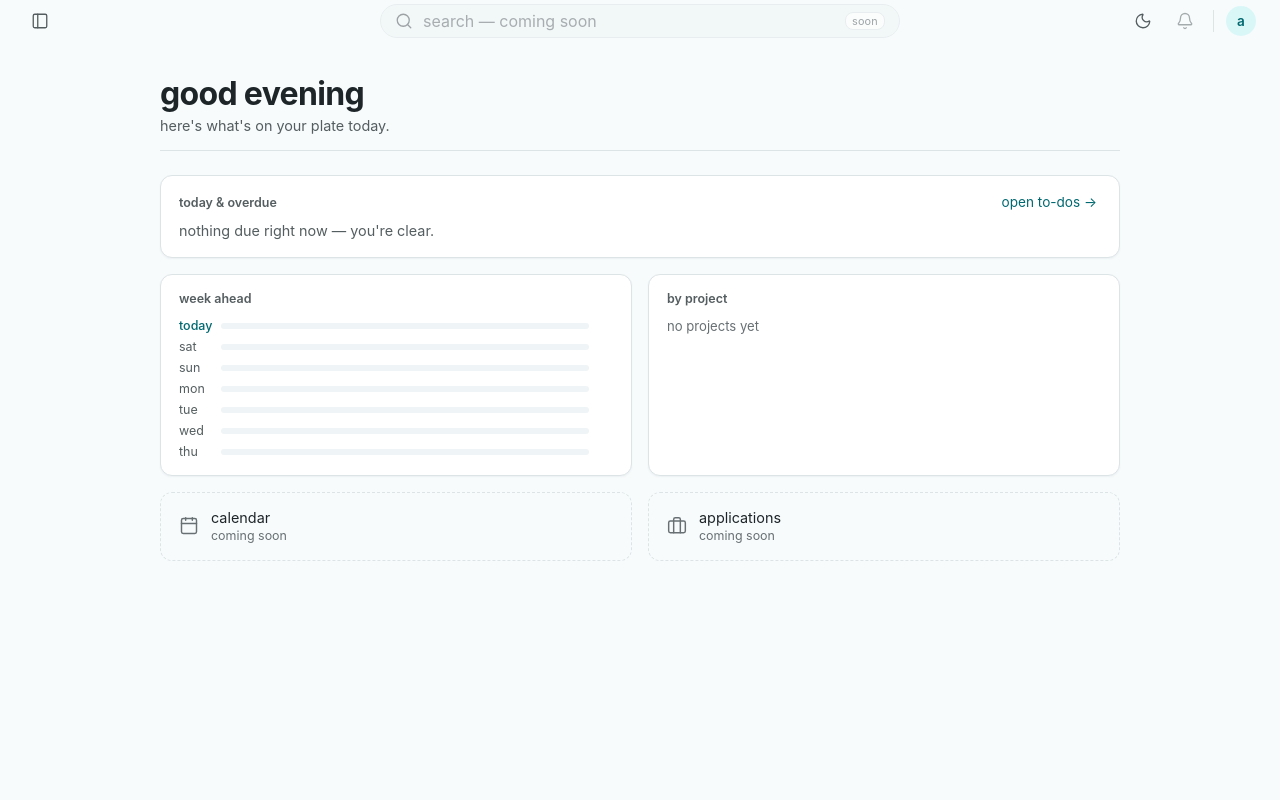
Test case: TodoDashboard › offers the dashed create tile instead of a fixed quick-add row
The image size is (1280, 800).
Click the button named "toggle sidebar" at (40, 21), box left=24, top=5, right=56, bottom=37
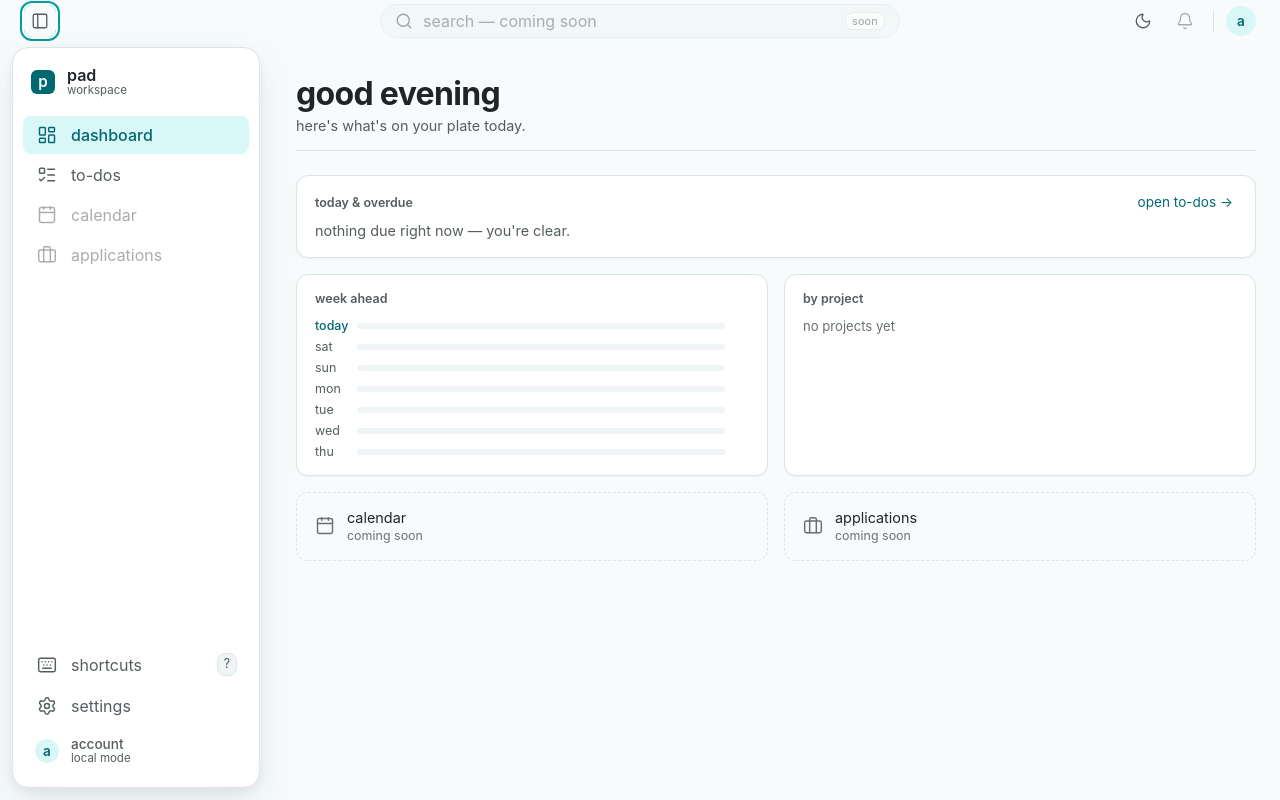
Click the button "to-dos" at (136, 175), box left=23, top=156, right=249, bottom=194
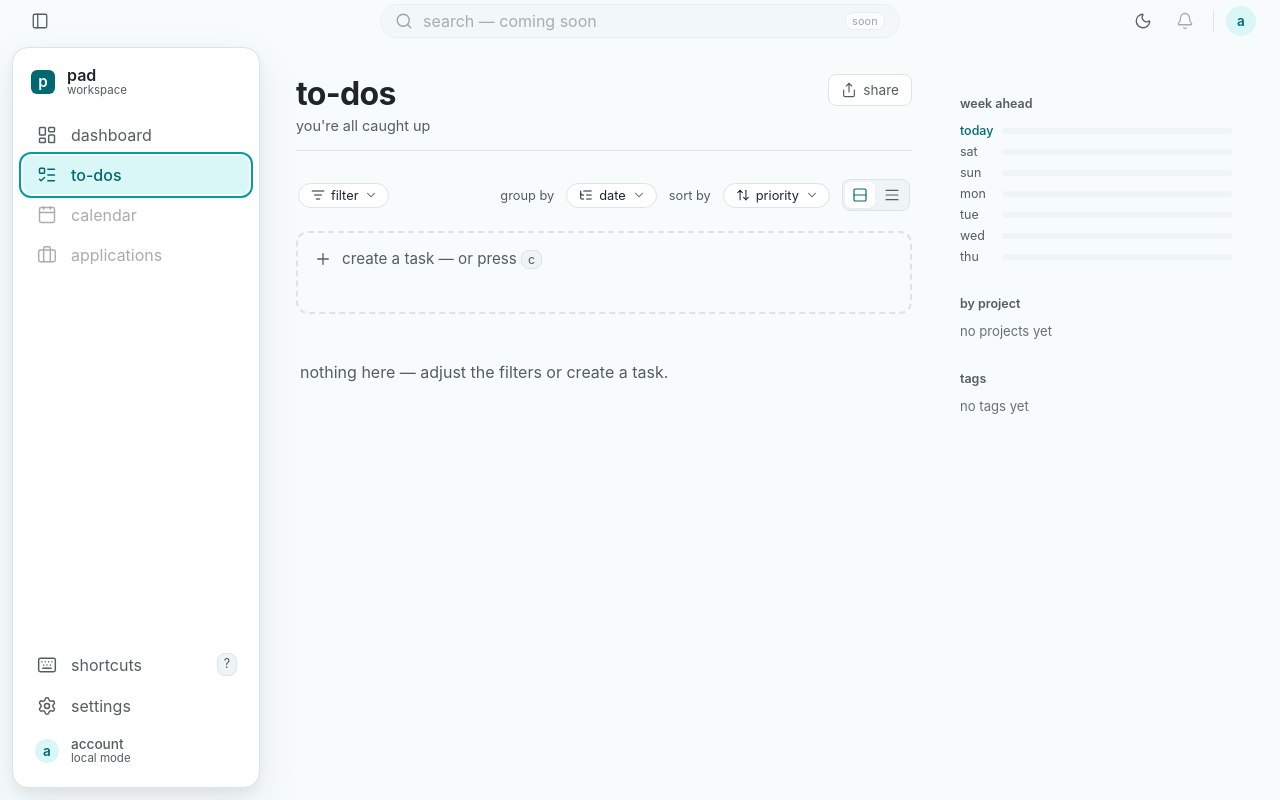
Check: the button "create a task — or press c" is shown, box left=296, top=231, right=912, bottom=314
